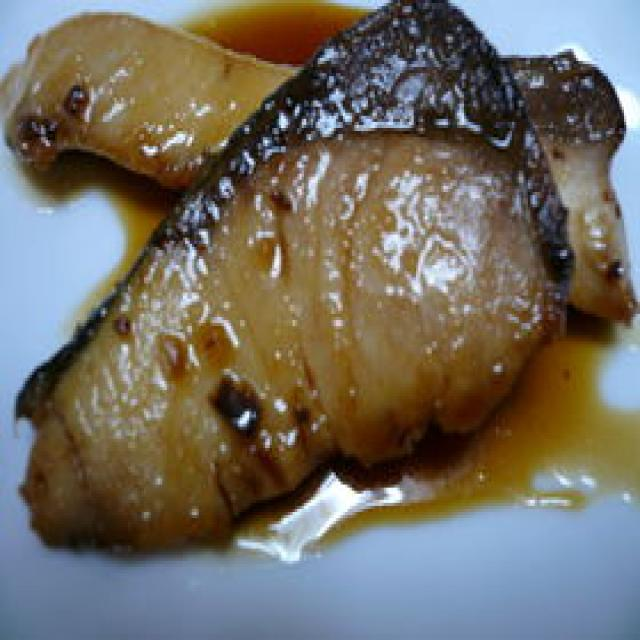熟制海鲜: (0, 0, 640, 585)
